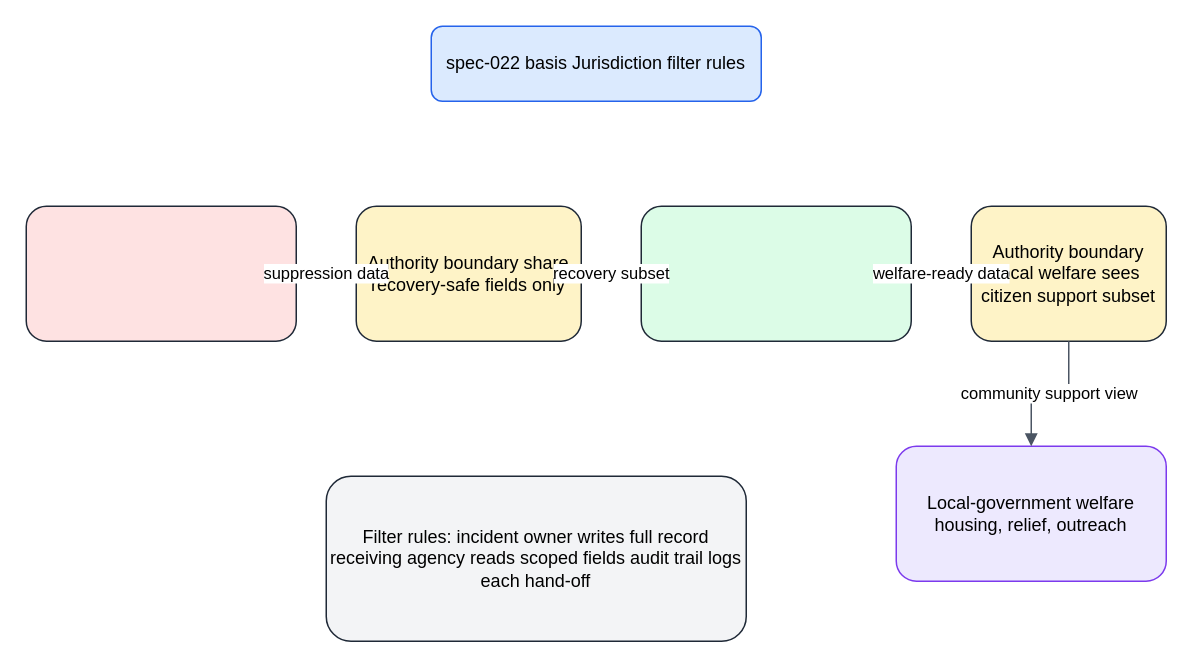
This 1193x668 diagram has some shape labels left out. The shapes that lost their labels are listed below. From the top down, each one's box as (x1, y1, x2, y2) in pixels, then its label:
(25, 205, 296, 341): NSW RFS suppression lead authority for active fireground
(640, 205, 911, 341): SES recovery coordination receives approved recovery view
